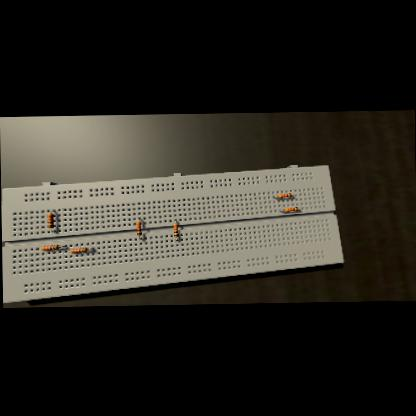breadboard: (0, 162, 343, 302)
resistor: (40, 244, 58, 250), (46, 212, 52, 228), (69, 247, 86, 252), (172, 222, 177, 236), (135, 221, 140, 235), (283, 206, 297, 211), (278, 192, 290, 197)
wire: (49, 228, 54, 231), (85, 247, 92, 249), (48, 210, 53, 212), (138, 235, 141, 238), (58, 245, 66, 246), (278, 209, 284, 210), (137, 218, 139, 220), (175, 237, 176, 240), (67, 250, 68, 251), (291, 194, 292, 195), (174, 219, 174, 221), (272, 196, 278, 196)
